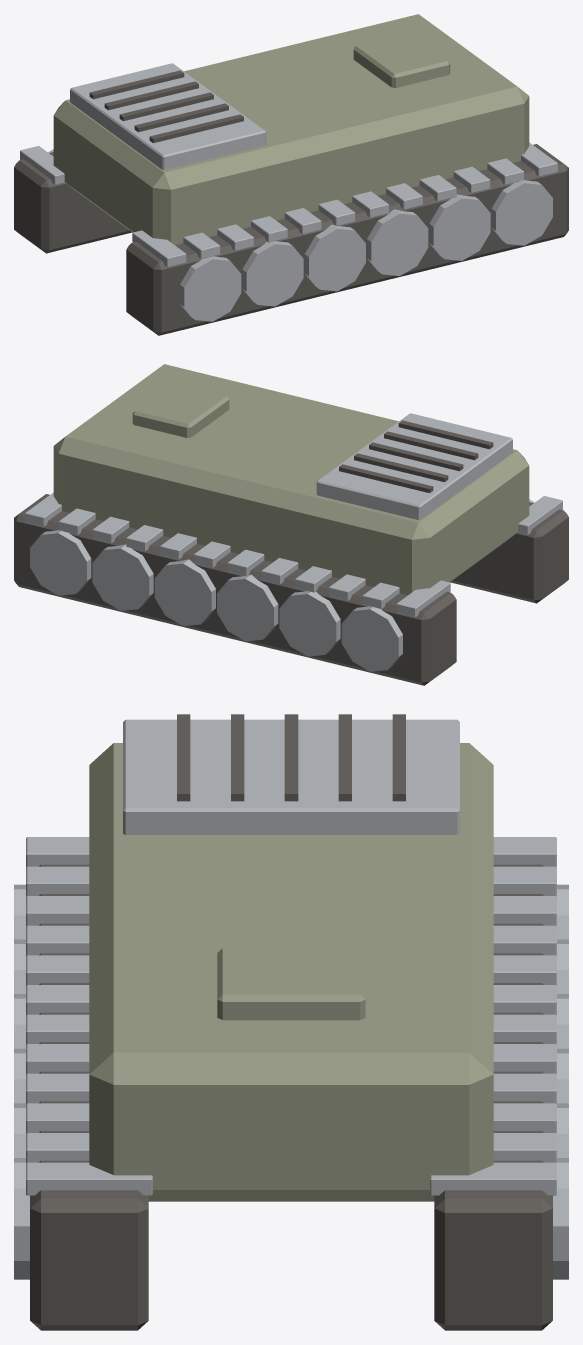
File: tank_hull.glb
3 renders of one model, top to bottom at view 1: azimuth 30°, elevation 25°; view 2: azimuth 150°, elevation 25°; view 3: azimuth 270°, elevation 25°, orthographic. The views are drawn at different scales.
Parts seen in each view (by area): view 1: Sloped armored hull, Track belt, Engine deck, Track belt.001, Driver hatch, Road wheel.003, Road wheel.002, Road wheel.004, Road wheel.001, Road wheel.005, Road wheel, Tread shoe (+17 smaller); view 2: Sloped armored hull, Track belt.001, Engine deck, Track belt, Driver hatch, Road wheel.009, Road wheel.008, Road wheel.010, Road wheel.007, Road wheel.011, Road wheel.006, Tread shoe.012 (+17 smaller); view 3: Sloped armored hull, Engine deck, Track belt, Track belt.001, Driver hatch, Tread shoe.011, Tread shoe.023, Tread shoe.003, Tread shoe.008, Tread shoe.015, Tread shoe.020, Tread shoe.004 (+24 smaller).
Boxes of the visible parts, <box> form: Sloped armored hull: <box>53,14,529,245</box>; Track belt: <box>126,144,568,335</box>; Engine deck: <box>70,63,266,169</box>; Track belt.001: <box>14,152,132,253</box>; Driver hatch: <box>353,33,450,87</box>; Road wheel.003: <box>367,209,428,275</box>; Road wheel.002: <box>304,224,365,291</box>; Road wheel.004: <box>429,194,490,260</box>; Road wheel.001: <box>242,241,303,306</box>; Road wheel.005: <box>491,180,552,245</box>; Road wheel: <box>180,256,241,321</box>; Tread shoe: <box>132,230,186,267</box>; Sloped armored hull: <box>53,364,529,595</box>; Track belt.001: <box>14,494,456,685</box>; Engine deck: <box>316,413,512,519</box>; Track belt: <box>450,502,568,603</box>; Driver hatch: <box>132,383,229,437</box>; Road wheel.009: <box>154,559,215,625</box>; Road wheel.008: <box>217,574,278,641</box>; Road wheel.010: <box>92,544,153,610</box>; Road wheel.007: <box>279,591,340,656</box>; Road wheel.011: <box>30,530,91,595</box>; Road wheel.006: <box>341,606,402,671</box>; Tread shoe.012: <box>396,580,450,617</box>; Sloped armored hull: <box>89,743,493,1201</box>; Engine deck: <box>123,719,459,834</box>; Track belt: <box>30,864,148,1330</box>; Track belt.001: <box>434,864,552,1330</box>; Driver hatch: <box>217,948,365,1020</box>; Tread shoe.011: <box>26,1162,152,1195</box>; Tread shoe.023: <box>430,1162,556,1195</box>; Tread shoe.003: <box>26,925,89,955</box>; Tread shoe.008: <box>26,1073,89,1103</box>; Tread shoe.015: <box>493,925,556,955</box>; Tread shoe.020: <box>493,1073,556,1103</box>; Tread shoe.004: <box>26,955,89,985</box>.
Size of the model in its own units: 0.32 by 0.1185 by 0.206.
